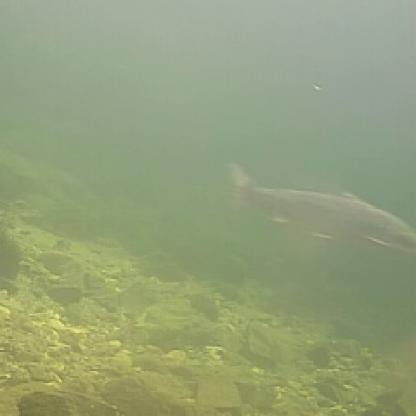salmon: (217, 154, 414, 257)
